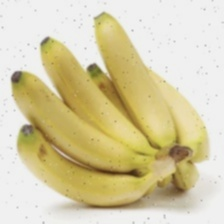banana: (32, 35, 224, 203)
